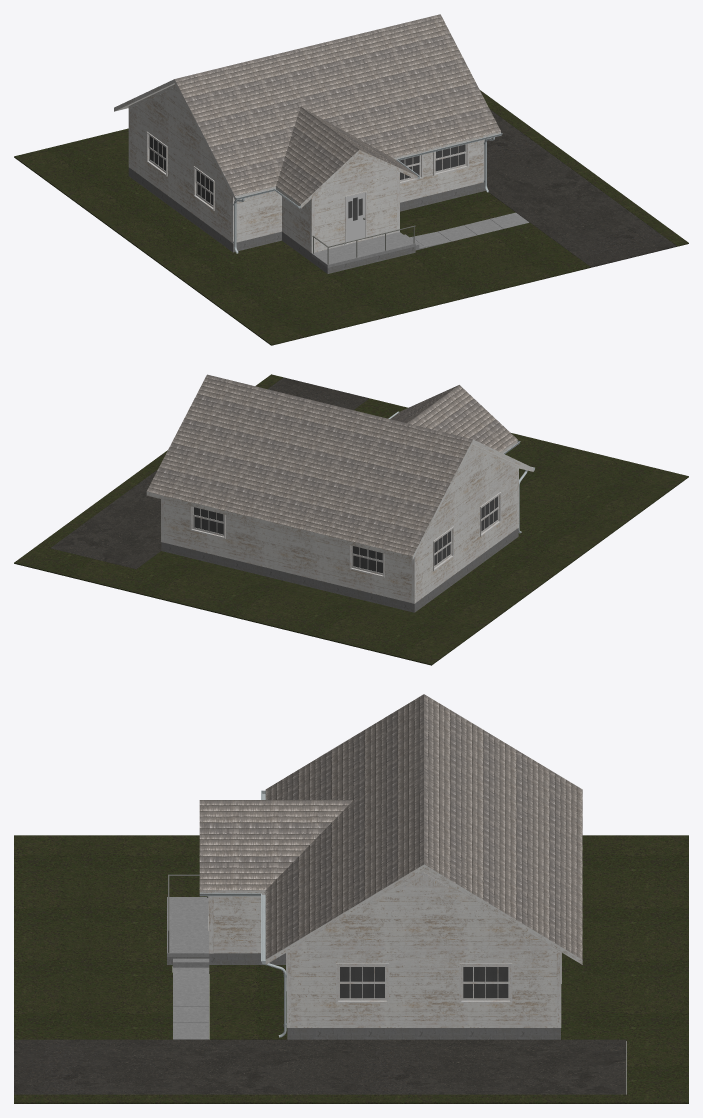
File: OldHouse01.dae
The picture shows the model from 3 angles, top to bottom: view 1: azimuth 30°, elevation 25°; view 2: azimuth 150°, elevation 25°; view 3: azimuth 270°, elevation 25°; orthographic projection. The views are drawn at different scales.
Parts seen in each view (by area): view 1: group_6 (×4), group_14, group_1, group_28, SketchUp; view 2: group_6 (×3), group_14, group_1; view 3: group_6 (×4), group_14, group_1, group_28, instance_1 (×2), instance_2 (×2), group_3, group_4.
Boxes of the visible parts, bbox=[...] form: group_6 (×4): bbox=[114, 14, 500, 273]; group_14: bbox=[14, 90, 688, 345]; group_1: bbox=[487, 109, 676, 267]; group_28: bbox=[400, 191, 515, 237]; SketchUp: bbox=[346, 193, 365, 242]; group_6 (×3): bbox=[146, 374, 533, 612]; group_14: bbox=[14, 374, 688, 665]; group_1: bbox=[50, 377, 369, 569]; group_6 (×4): bbox=[167, 694, 582, 1039]; group_14: bbox=[14, 835, 688, 1103]; group_1: bbox=[14, 1039, 626, 1094]; group_28: bbox=[209, 965, 287, 1039]; instance_1 (×2): bbox=[340, 967, 508, 981]; instance_2 (×2): bbox=[340, 984, 508, 998]; group_3: bbox=[173, 971, 208, 989]; group_4: bbox=[173, 989, 208, 1006].
Bounding box in the file's own units: 774 × 826 × 244.
